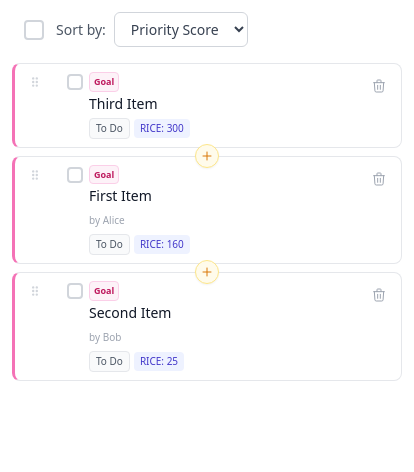
Test: BacklogList › shows plural "items" when multiple selected
Step 1. Click the 1st button named "Select item" → (75, 82), box [67, 74, 83, 90]
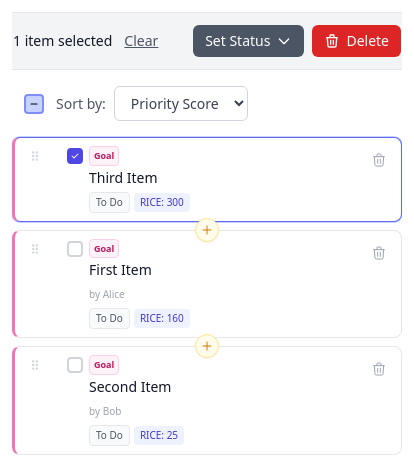
Step 2. Click the 1st button named "Select item" → (75, 248), box [67, 240, 83, 256]
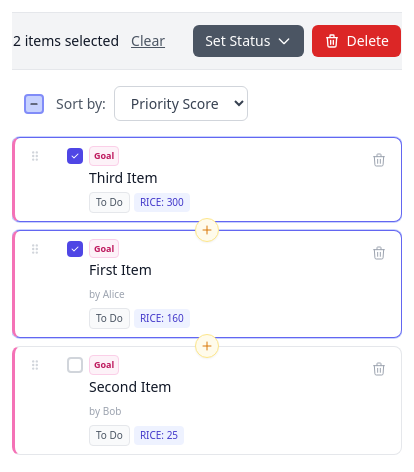
Now the text "2 items selected" is shown, box [13, 31, 119, 51]
